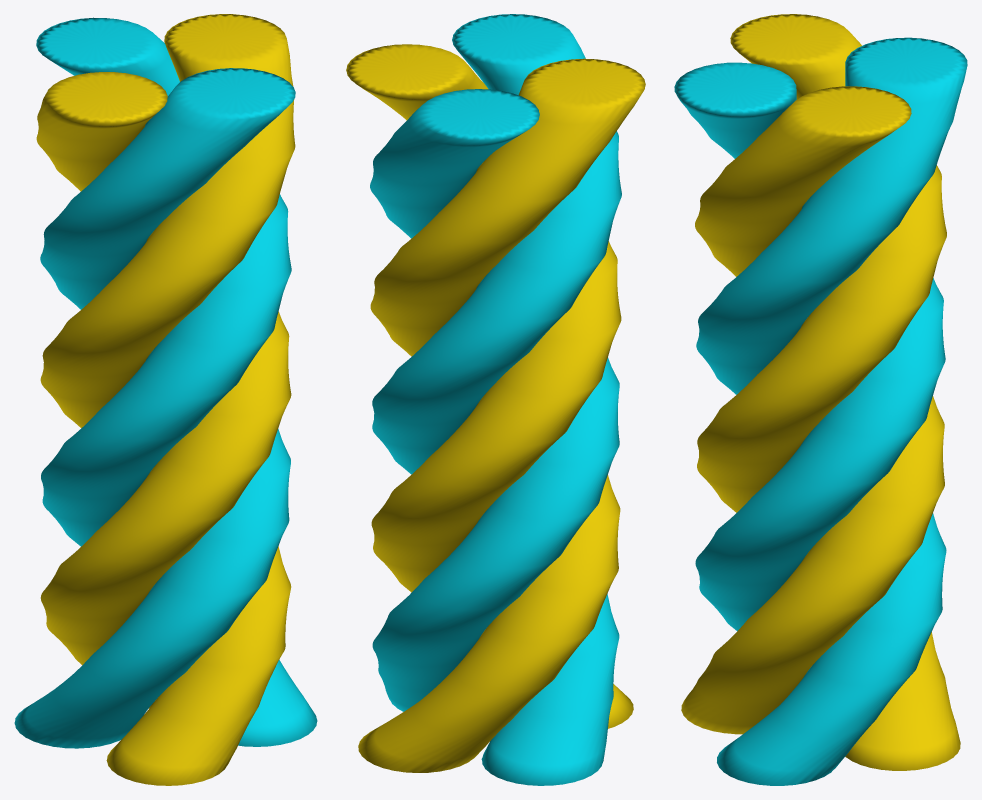
Rendered from twister.glb.
3 renders of one model, left to right at view 1: azimuth 30°, elevation 25°; view 2: azimuth 150°, elevation 25°; view 3: azimuth 270°, elevation 25°, orthographic.
Parts seen in each view (by area): view 1: Cylinder.003; view 2: Cylinder.003; view 3: Cylinder.003.
Boxes of the visible parts, box(x1,y1,x2,y2) form: Cylinder.003: box(14, 14, 317, 785); Cylinder.003: box(346, 14, 645, 785); Cylinder.003: box(674, 14, 967, 785).
Size of the model in its own units: 0.2291 by 0.5643 by 0.2291.
